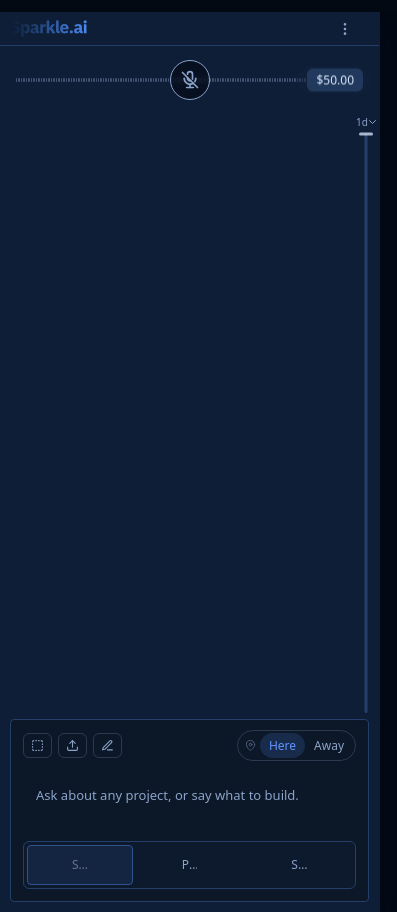
Test case: ConciergeHost — an addressed message goes where it was addressed › keeps the full text, address included, in the thread
Type "@Kraken Auth ship the DMG" into the text box named "Message" at (190, 804), box x1=23 y1=775 x2=356 y2=833
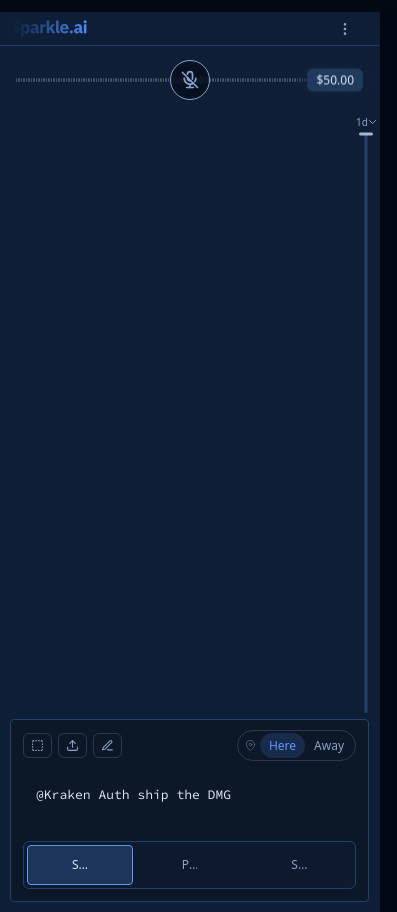
Click the button "Send" at (80, 865), box x1=27 y1=845 x2=133 y2=885
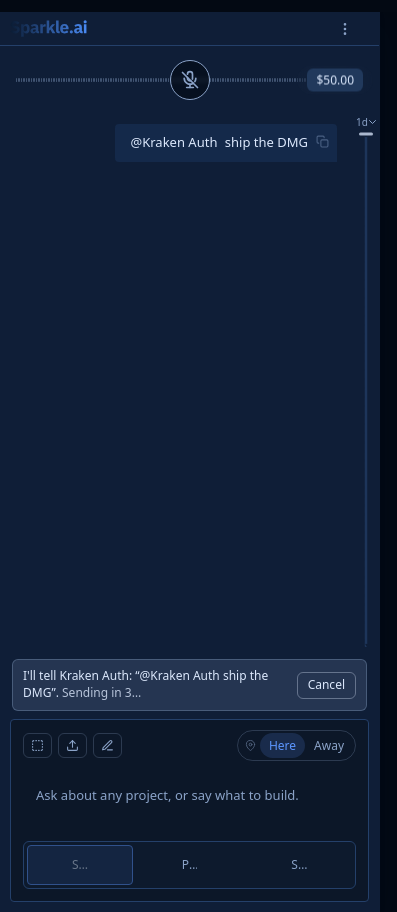
Expected: the element with test id "you-bubble" reads "@Kraken Auth ship the DMG", x1=114 y1=124 x2=337 y2=162
Expected: the text with test id "concierge-mention-pill" reads "@Kraken Auth", x1=130 y1=133 x2=217 y2=151
